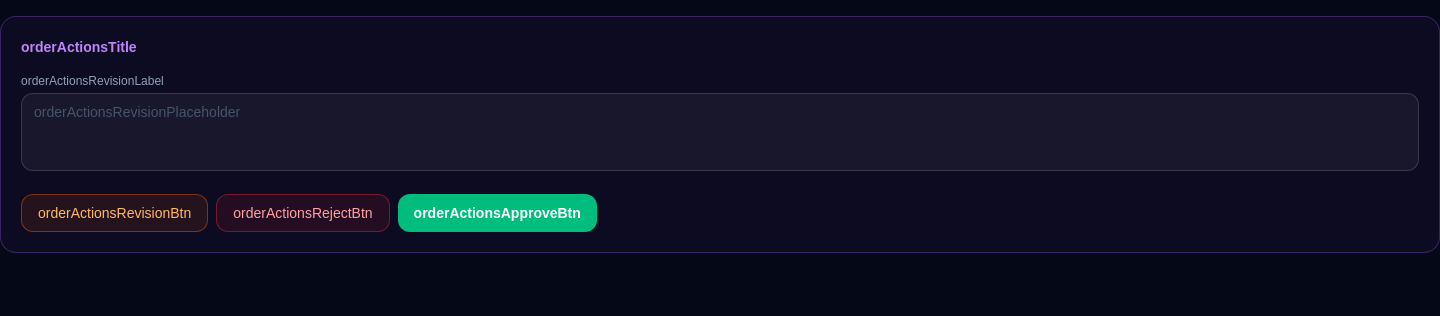
Test: OrderClientActions › exige nota ao pedir revisao
Step 1. Click the button "orderActionsRevisionBtn" → (115,213), box [21,194,208,232]
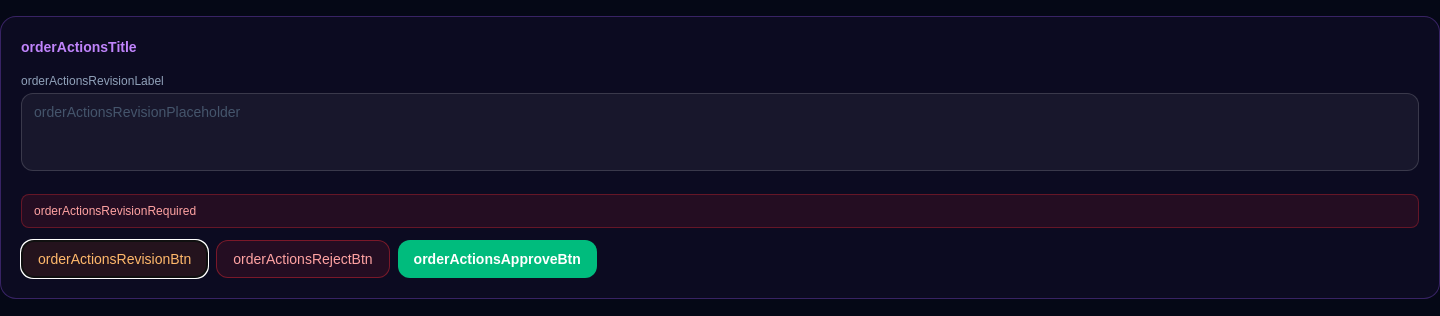
Expected: the text "orderActionsRevisionRequired" is shown, [21,194,1419,228]
